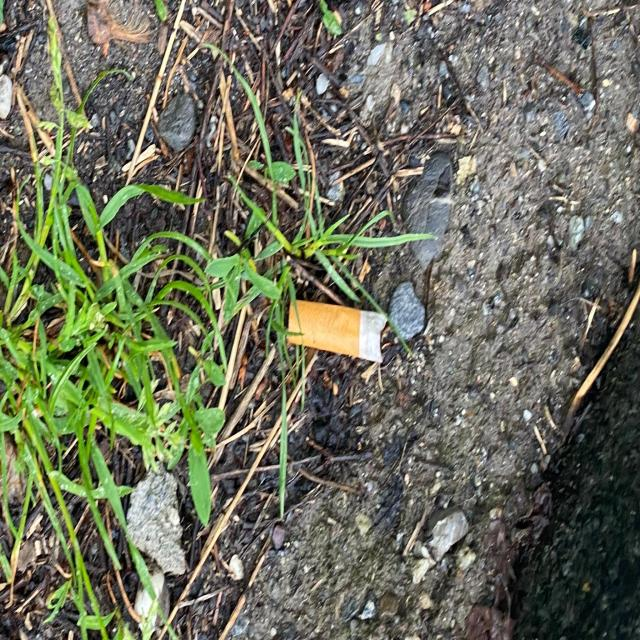other waste: (286, 296, 388, 365)
